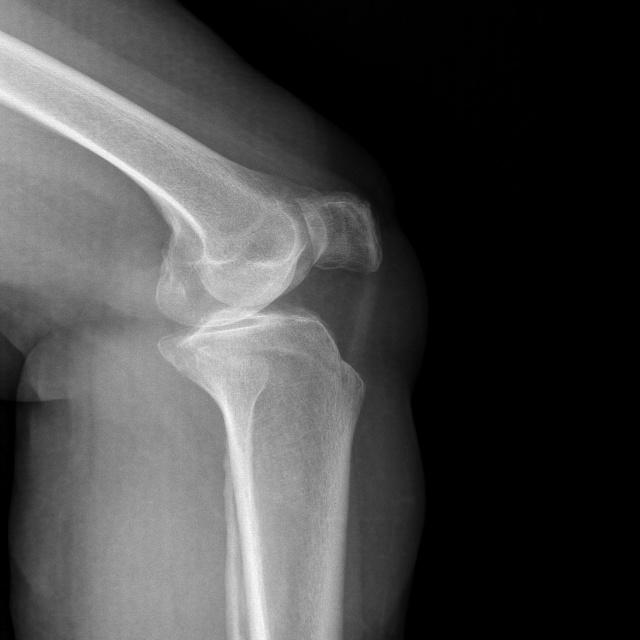Knee: (142, 185, 383, 427)
